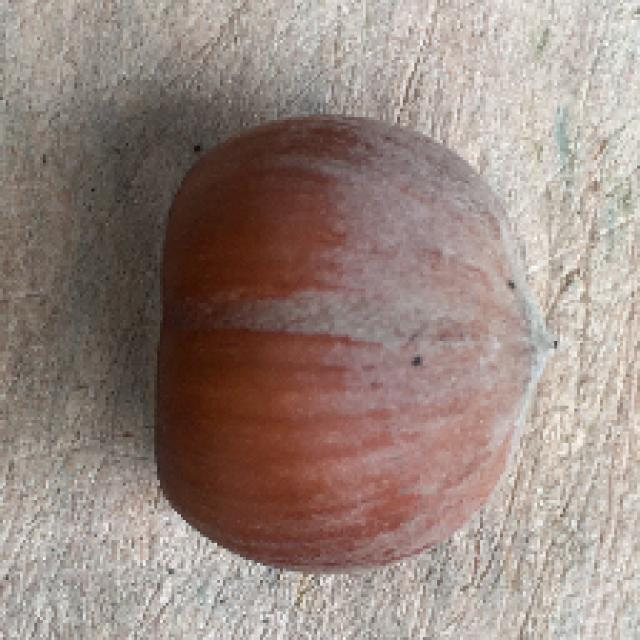qualityHazelnut: (143, 111, 557, 575)
